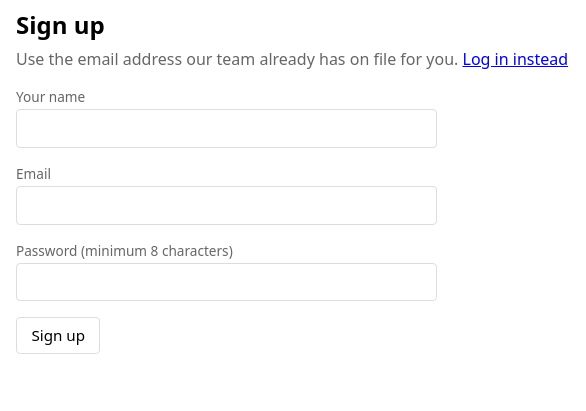
Test: PortalSignupPage › shows the 403 'no matching account' message
In the field labelled "Your name": (227,129) [16,109,437,148], type "New Owner"
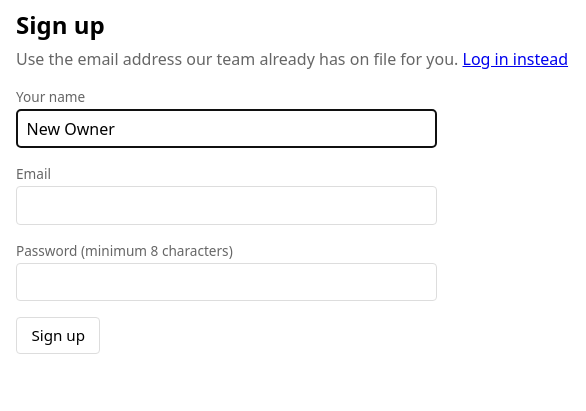
In the field labelled "Email": (227,205) [16,186,437,225], type "owner@example.com"
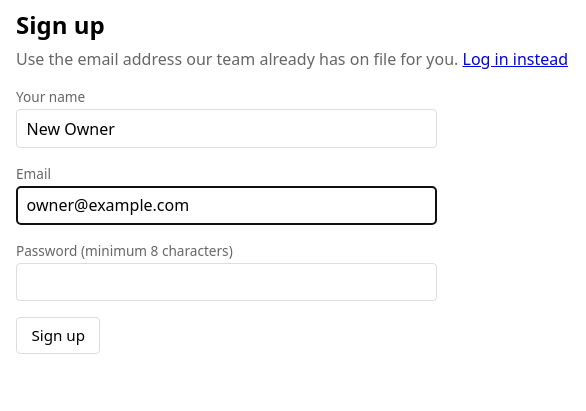
In the password field labelled "Password (minimum 8 characters)": (227,282) [16,263,437,301], type "hunter2pass"
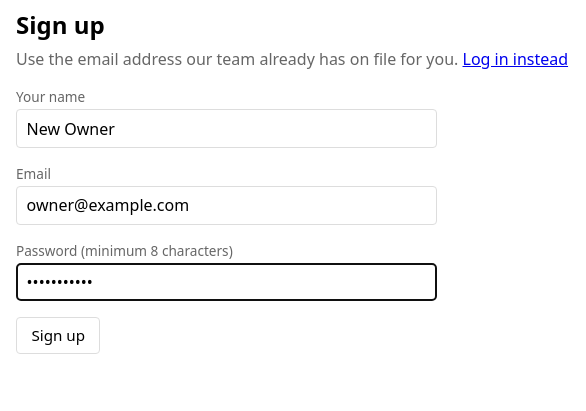
Click the button "Sign up": (58,336) [16,317,100,354]
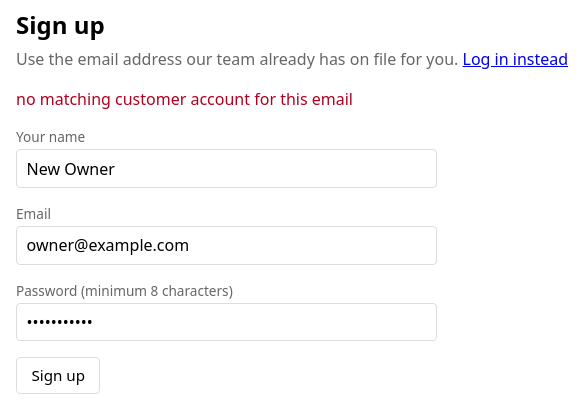
Now the message reads "no matching customer account for this email", box [16,88,353,110]
